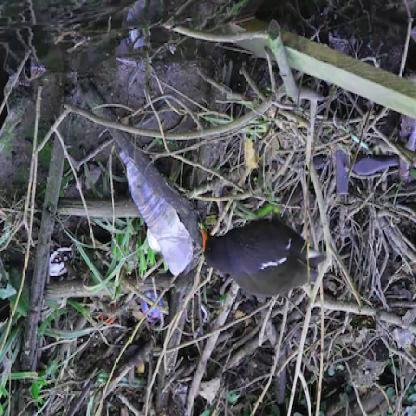Plastic: (118, 141, 199, 275)
